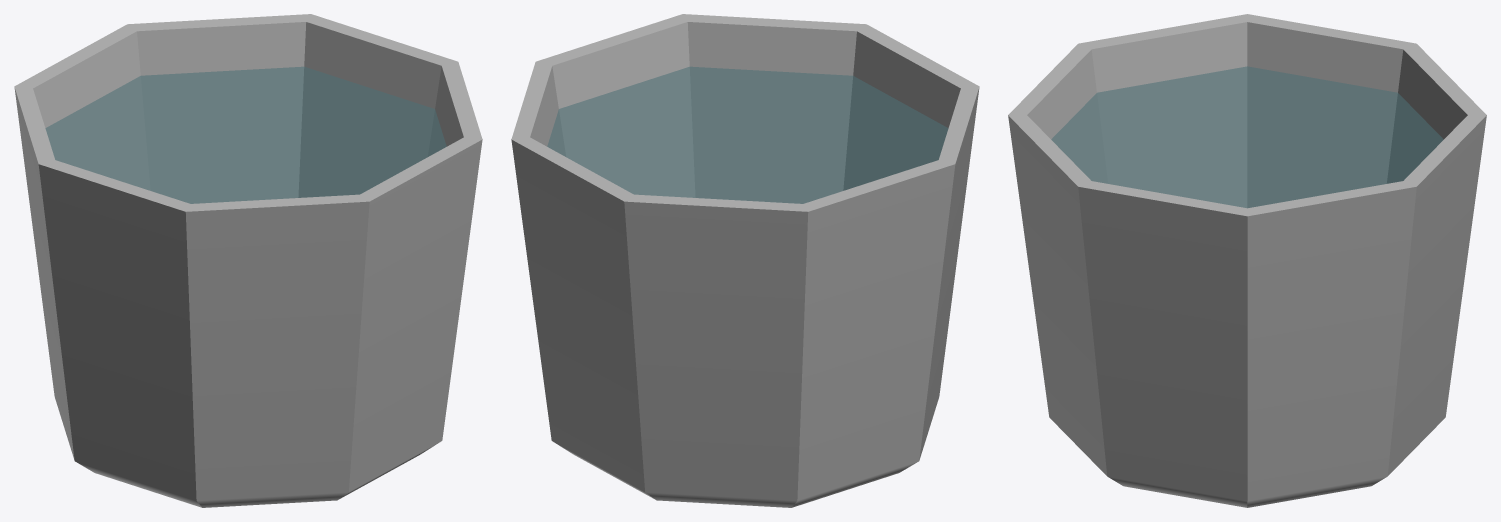
Rendered from CleaningBucket.fbx.
3 renders of one model, left to right at view 1: azimuth 30°, elevation 25°; view 2: azimuth 150°, elevation 25°; view 3: azimuth 270°, elevation 25°, orthographic.
Parts seen in each view (by area): view 1: CleaningBucket, Water1; view 2: CleaningBucket, Water1; view 3: CleaningBucket, Water1.
Boxes of the visible parts, x1,y1,x2,y2 form: CleaningBucket: [14, 14, 482, 507]; Water1: [45, 66, 446, 203]; CleaningBucket: [511, 14, 979, 507]; Water1: [547, 66, 948, 203]; CleaningBucket: [1008, 14, 1486, 507]; Water1: [1051, 66, 1443, 208].
Bounding box in the file's own units: 18.7 × 13.74 × 18.7.
